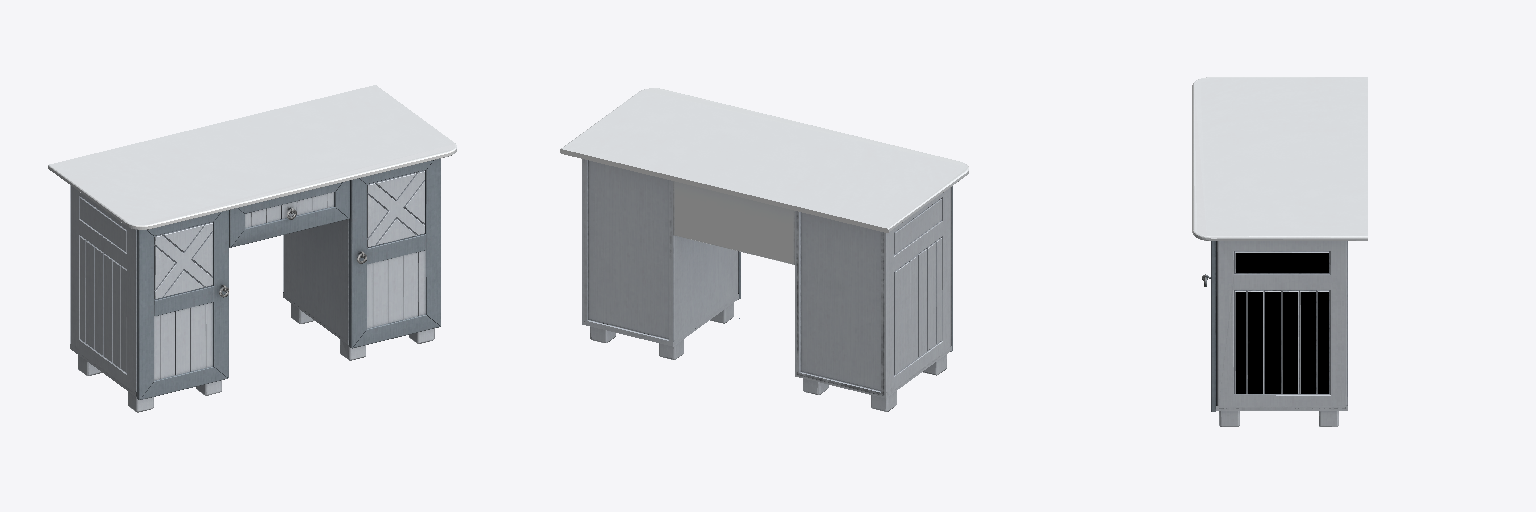
3 views of the same model, side by side, from view 1: azimuth 30°, elevation 25°; view 2: azimuth 150°, elevation 25°; view 3: azimuth 270°, elevation 25° (orthographic).
Visible parts, largest first — view 1: solid; view 2: solid; view 3: solid.
Boxes of the visible parts, x1,y1,x2,y2 form: solid: [48, 85, 456, 412]; solid: [560, 88, 968, 411]; solid: [1192, 77, 1367, 426].
Size of the model in its own units: 1.86 by 1.07 by 0.8568.
Materials: 1 (1 with a texture image).